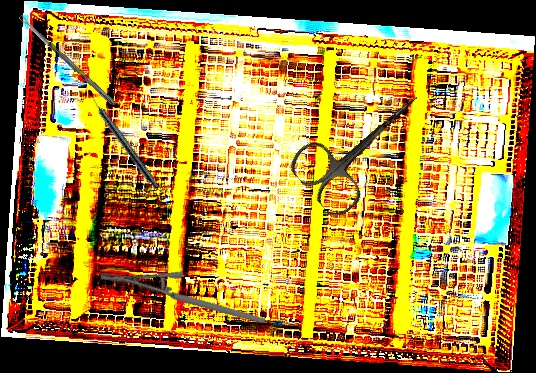Handpiece: (86, 91, 162, 191)
Iris Scissors: (284, 69, 444, 222)
Needle Holder: (97, 226, 267, 372)
Surgical Spoon: (18, 13, 117, 107)
